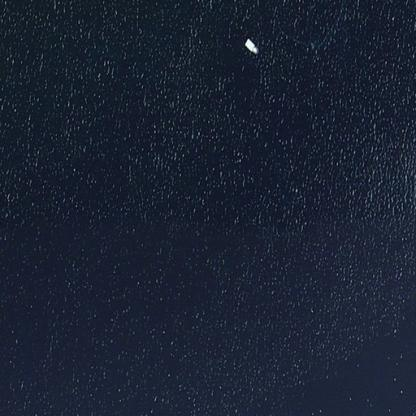ship: (239, 31, 265, 58)
